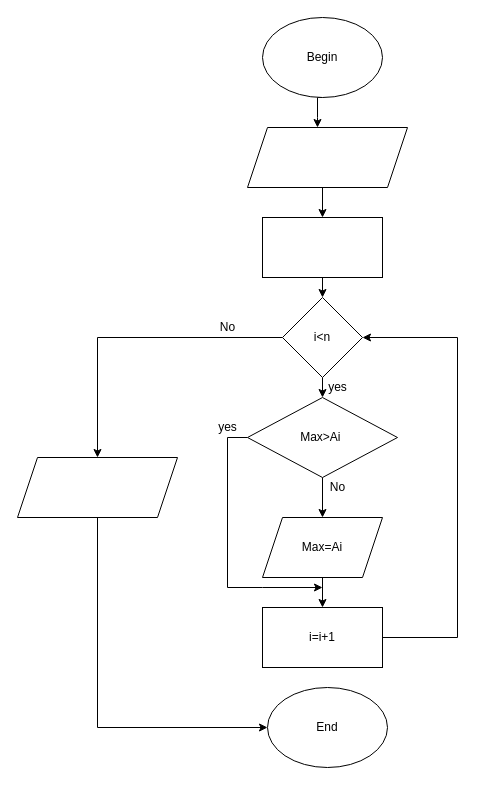
The diagram is 483 pixels wide and 785 high, and some of its shapes have lost their labels. Each missing label, with the centre of its shape:
"Display '' số lớn nhất A1" goes at (97,487).
"INPUT Dãy A1.....An" goes at (327,157).
"Max=A1 and i=2" goes at (322,247).
